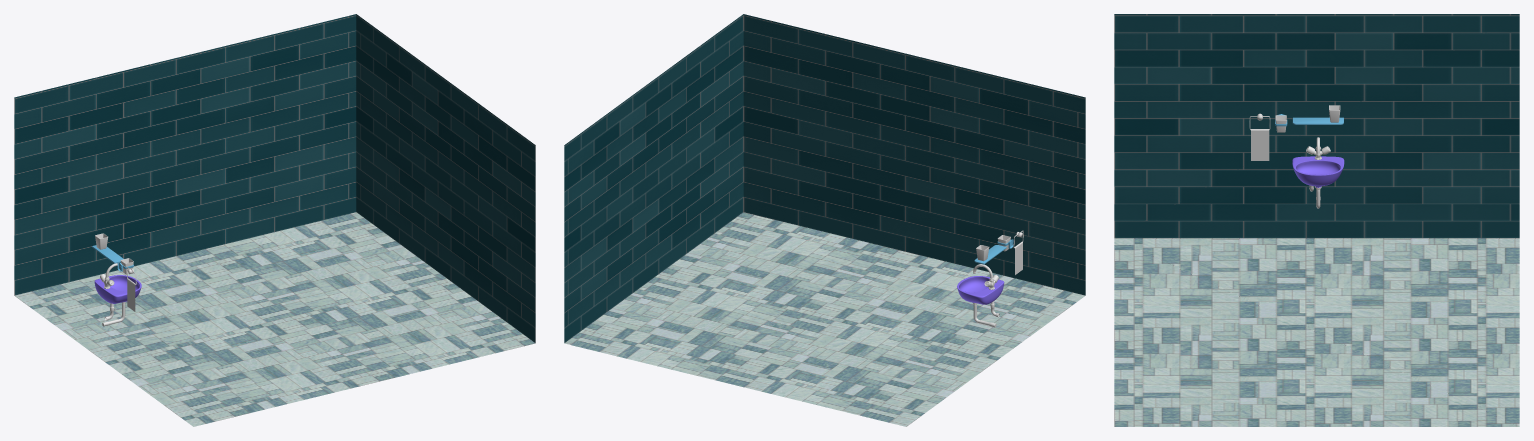
File: bathroom.glb
3 views of the same model, side by side, from view 1: azimuth 30°, elevation 25°; view 2: azimuth 150°, elevation 25°; view 3: azimuth 270°, elevation 25° (orthographic). The views are drawn at different scales.
Visible parts, largest first — view 1: main wall, Towel ad Mirror_Material.004_0, Plane, Main Base _Material.010_0; view 2: main wall, Towel ad Mirror_Material.004_0, Plane, Main Base _Material.010_0; view 3: main wall, Towel ad Mirror_Material.004_0, Plane, Main Base _Material.010_0, Towel, Pipes_Material.012_0.
Part boxes in pixels (box(x1,y1,x2,y2)): main wall, Towel ad Mirror_Material.004_0: box(14, 14, 535, 342); Plane: box(14, 212, 535, 426); Main Base _Material.010_0: box(94, 275, 141, 303); main wall, Towel ad Mirror_Material.004_0: box(564, 14, 1085, 342); Plane: box(564, 212, 1085, 426); Main Base _Material.010_0: box(957, 276, 1004, 304); main wall, Towel ad Mirror_Material.004_0: box(1114, 14, 1519, 238); Plane: box(1114, 238, 1519, 426); Main Base _Material.010_0: box(1292, 156, 1344, 187); Towel: box(1251, 129, 1269, 160); Pipes_Material.012_0: box(1306, 137, 1330, 208).
Bounding box in the file's own units: 4.26 × 2.35 × 3.86.
Materials: 5 (2 with a texture image).
